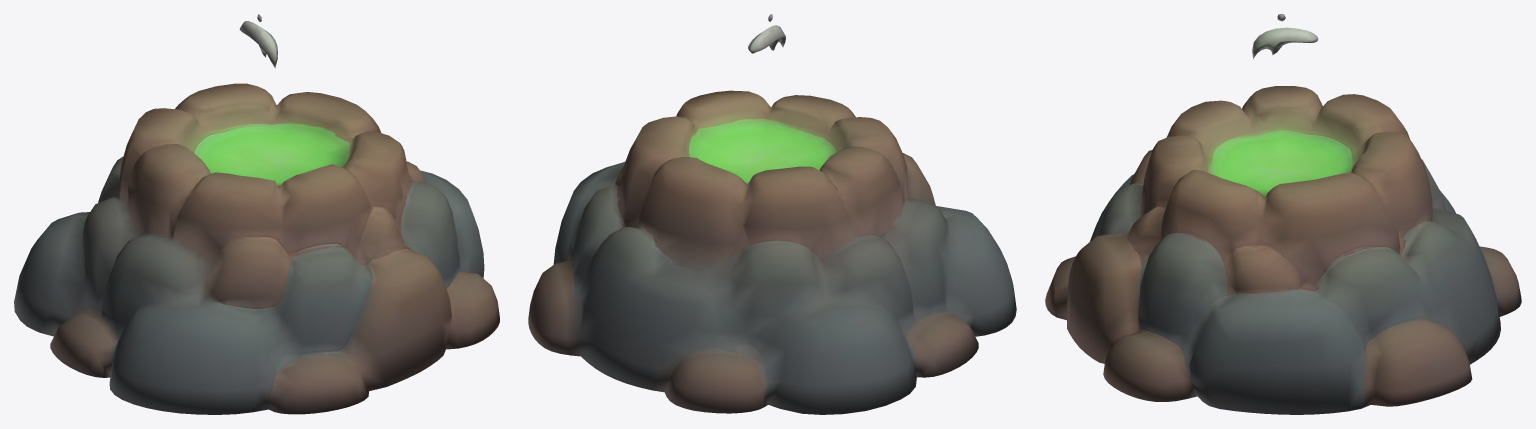
Rendered from geyser.glb.
3 views of the same model, side by side, from view 1: azimuth 30°, elevation 25°; view 2: azimuth 150°, elevation 25°; view 3: azimuth 270°, elevation 25° (orthographic).
Visible parts, largest first — view 1: tripo_node_9c5cd314-7ad5-4772-ae71-444dd272c954; view 2: tripo_node_9c5cd314-7ad5-4772-ae71-444dd272c954; view 3: tripo_node_9c5cd314-7ad5-4772-ae71-444dd272c954.
Boxes of the visible parts, x1,y1,x2,y2 form: tripo_node_9c5cd314-7ad5-4772-ae71-444dd272c954: [14, 14, 499, 414]; tripo_node_9c5cd314-7ad5-4772-ae71-444dd272c954: [528, 14, 1016, 414]; tripo_node_9c5cd314-7ad5-4772-ae71-444dd272c954: [1045, 14, 1521, 414].
Size of the model in its own units: 2.91 by 2.12 by 3.
1 material, 1 textured.
